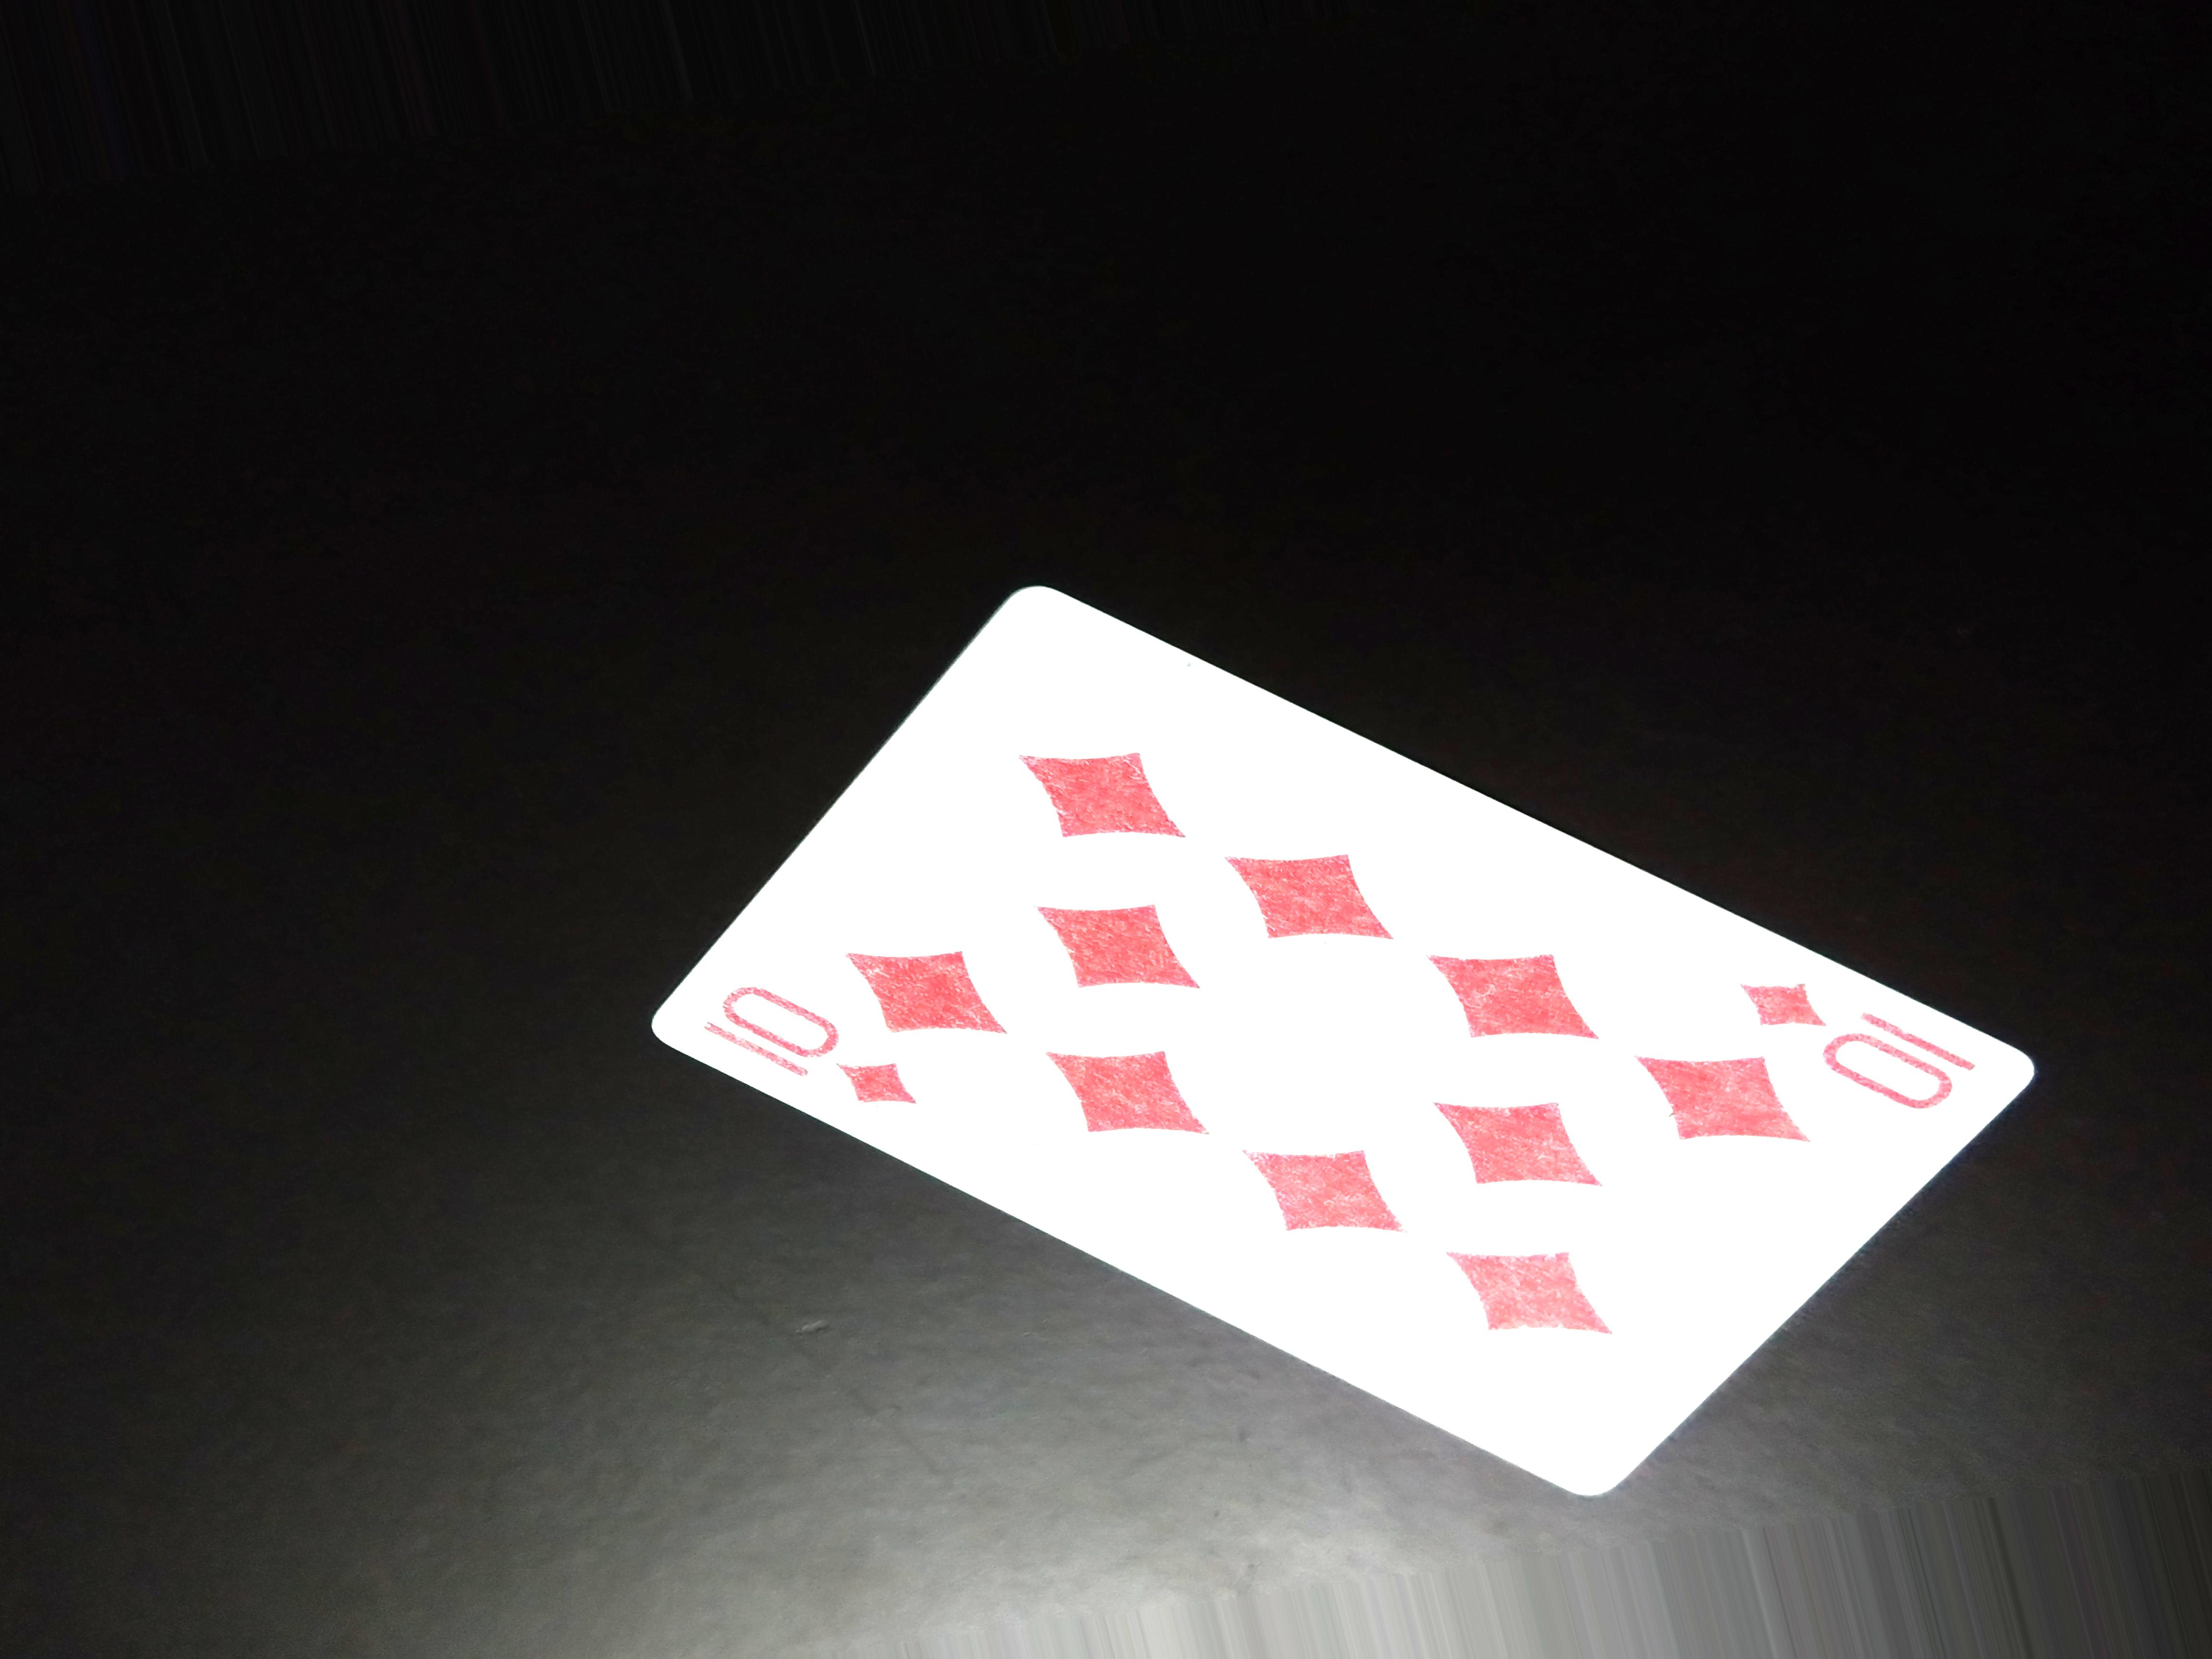10D: (723, 979, 934, 1124)
